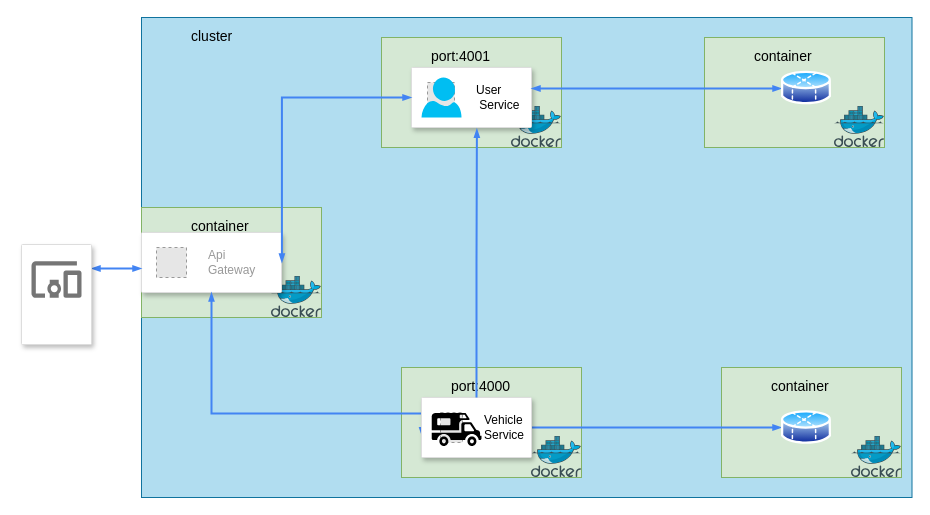
Some shapes in this 930 by 515 pixel diagram are drawn without their labels. Grey dashed boxes stand in for pictures. Each missing label, with the centre of its shape:
MQTT Devices: [57,296]
UserDb: [806,87]
VehicleDb: [806,427]
